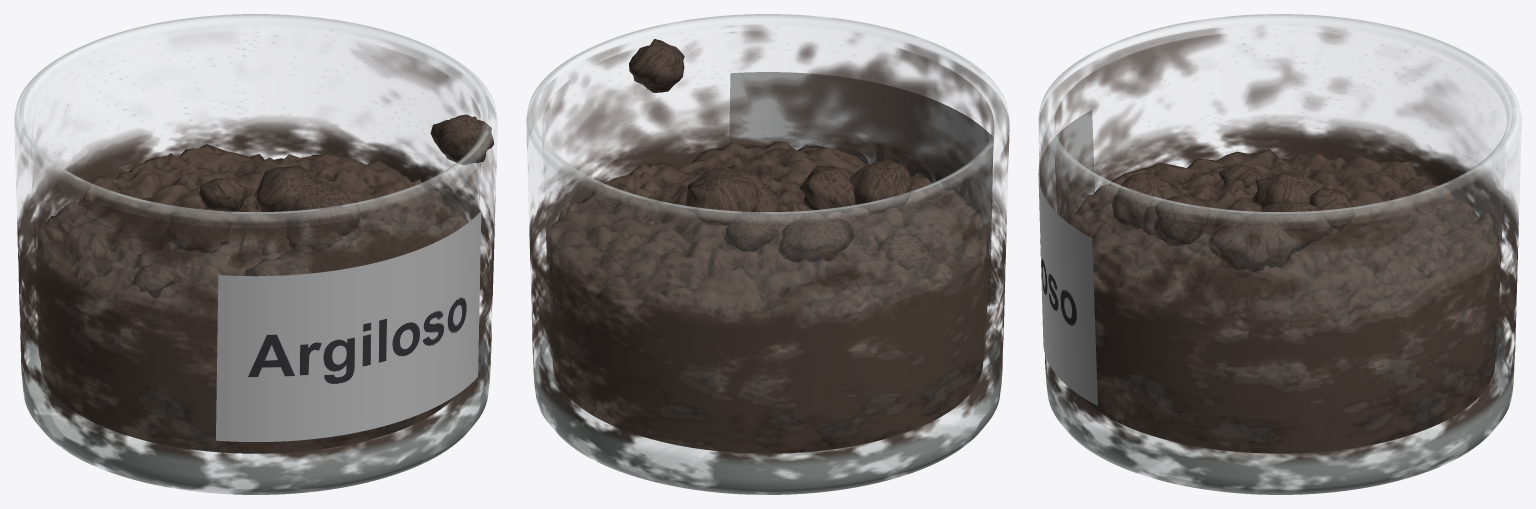
The model's file is copo_05_04_argiloso.glb.
The picture shows the model from 3 angles, left to right: view 1: azimuth 30°, elevation 25°; view 2: azimuth 150°, elevation 25°; view 3: azimuth 270°, elevation 25°; orthographic projection.
Parts seen in each view (by area): view 1: vidro_copo_argiloso, solo_argiloso, etiqueta_argiloso, torrao_8, torrao_borda, torrao_5, torrao_1, torrao_3, torrao_4, torrao_7, torrao_0, torrao_6 (+1 smaller); view 2: vidro_copo_argiloso, solo_argiloso, etiqueta_argiloso, torrao_8, torrao_5, torrao_2, torrao_6, torrao_borda, torrao_3, torrao_7, torrao_4, torrao_0; view 3: vidro_copo_argiloso, solo_argiloso, etiqueta_argiloso, torrao_4, torrao_borda, torrao_2, torrao_5, torrao_8, torrao_3, torrao_1, torrao_7.
Boxes of the visible parts, x1=… form: vidro_copo_argiloso: x1=14, y1=14, x2=497, y2=494; solo_argiloso: x1=37, y1=144, x2=467, y2=453; etiqueta_argiloso: x1=216, y1=211, x2=481, y2=441; torrao_8: x1=163, y1=208, x2=232, y2=253; torrao_borda: x1=430, y1=114, x2=493, y2=164; torrao_5: x1=253, y1=165, x2=316, y2=220; torrao_1: x1=295, y1=197, x2=360, y2=235; torrao_3: x1=199, y1=178, x2=247, y2=213; torrao_4: x1=283, y1=181, x2=355, y2=236; torrao_7: x1=131, y1=260, x2=182, y2=298; torrao_0: x1=286, y1=218, x2=341, y2=250; torrao_6: x1=276, y1=245, x2=333, y2=273; vidro_copo_argiloso: x1=526, y1=14, x2=1009, y2=494; solo_argiloso: x1=549, y1=141, x2=986, y2=453; etiqueta_argiloso: x1=729, y1=72, x2=992, y2=306; torrao_8: x1=778, y1=213, x2=853, y2=262; torrao_5: x1=688, y1=176, x2=759, y2=225; torrao_2: x1=850, y1=159, x2=912, y2=214; torrao_6: x1=799, y1=165, x2=855, y2=217; torrao_borda: x1=629, y1=39, x2=684, y2=92; torrao_3: x1=723, y1=213, x2=775, y2=252; torrao_7: x1=878, y1=232, x2=929, y2=269; torrao_4: x1=684, y1=168, x2=758, y2=211; torrao_0: x1=755, y1=184, x2=780, y2=216; vidro_copo_argiloso: x1=1038, y1=14, x2=1521, y2=494; solo_argiloso: x1=1067, y1=148, x2=1498, y2=453; etiqueta_argiloso: x1=1038, y1=110, x2=1097, y2=405; torrao_4: x1=1221, y1=213, x2=1304, y2=272; torrao_borda: x1=1154, y1=193, x2=1211, y2=246; torrao_2: x1=1111, y1=172, x2=1181, y2=228; torrao_5: x1=1261, y1=199, x2=1332, y2=251; torrao_8: x1=1252, y1=172, x2=1326, y2=208; torrao_3: x1=1309, y1=187, x2=1355, y2=229; torrao_1: x1=1208, y1=219, x2=1247, y2=269; torrao_7: x1=1218, y1=164, x2=1268, y2=187.
Bounding box in the file's own units: 0.0699 × 0.046 × 0.0699.
Materials: 3 (3 with a texture image).
